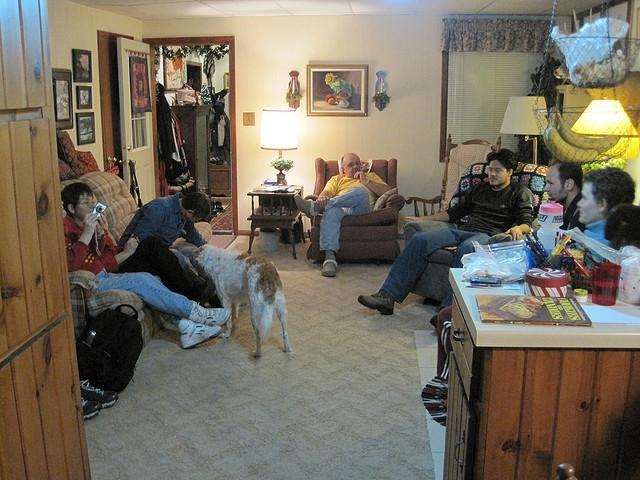banana: (556, 104, 620, 154), (544, 106, 600, 162)
